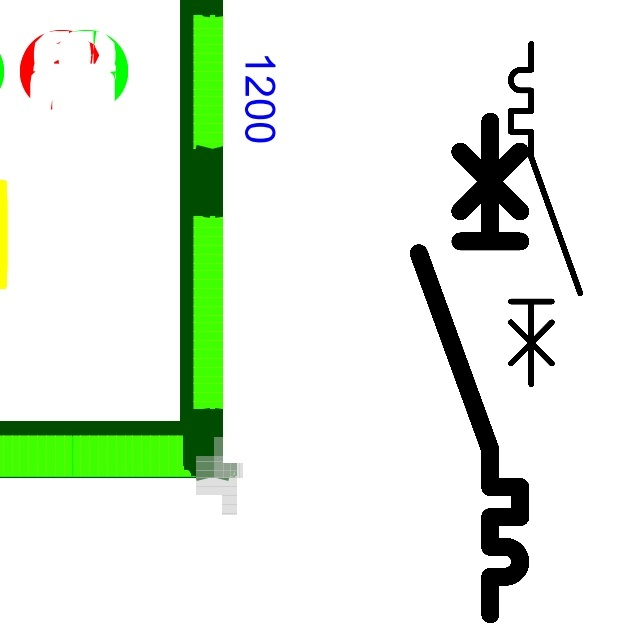interruptor_termomagnetico: (406, 109, 533, 627), (502, 35, 589, 393)
